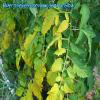Tomato leaf yellow virus: (33, 58, 47, 88), (42, 8, 58, 34), (24, 30, 37, 60), (73, 62, 90, 82), (50, 55, 63, 77), (57, 17, 69, 35)
